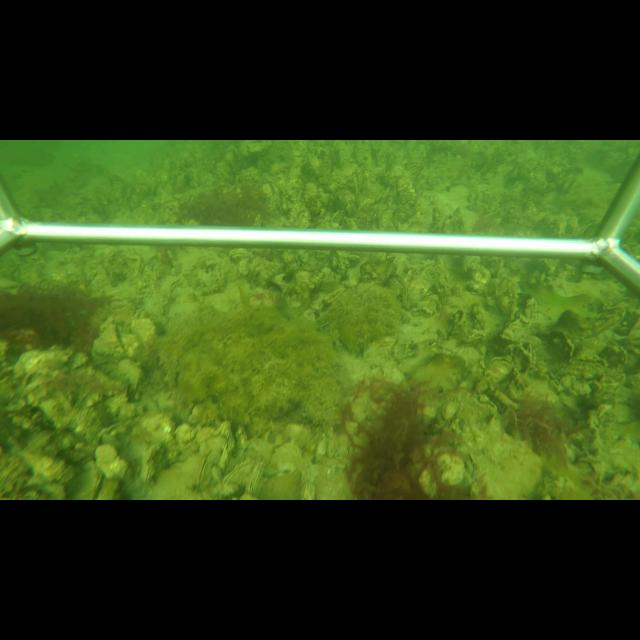Oyster-Closed: (282, 268, 326, 320), (191, 445, 221, 489), (223, 458, 253, 492), (486, 353, 514, 389), (496, 275, 520, 317), (244, 456, 266, 498), (139, 443, 157, 481), (170, 276, 182, 292)
Oyster-Open: (80, 464, 116, 500)
